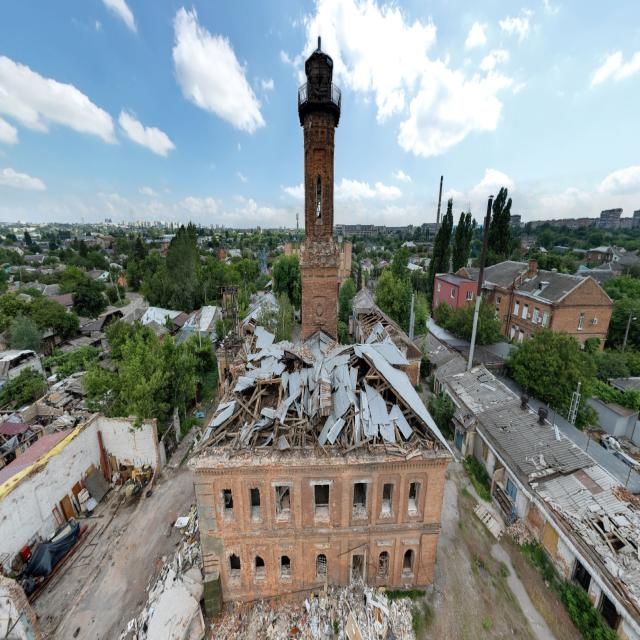broken_window: (274, 482, 292, 522), (313, 482, 330, 522), (352, 481, 367, 519), (407, 480, 421, 516), (351, 552, 365, 586), (381, 482, 394, 518), (249, 486, 261, 522), (401, 548, 415, 578), (377, 550, 389, 580), (316, 553, 328, 581), (279, 554, 291, 580), (254, 554, 266, 578), (229, 551, 241, 575), (222, 488, 233, 514)
building: (188, 322, 454, 612)
damaged_roof: (188, 312, 454, 467)
